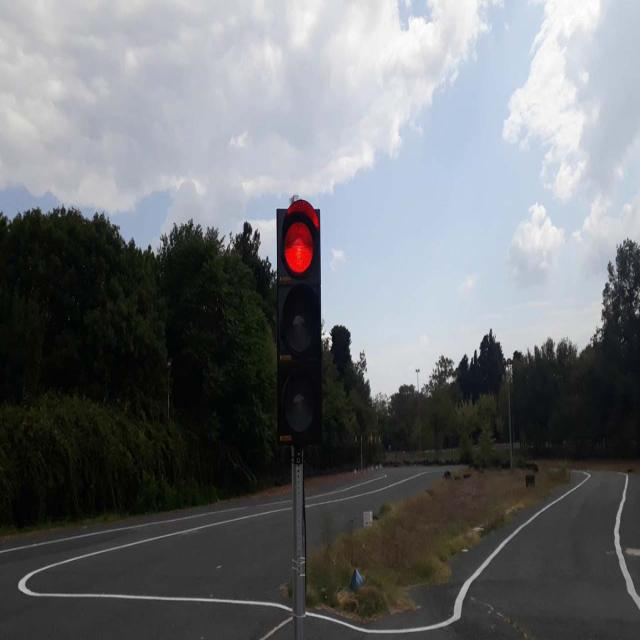kirmizi: (277, 204, 321, 440)
